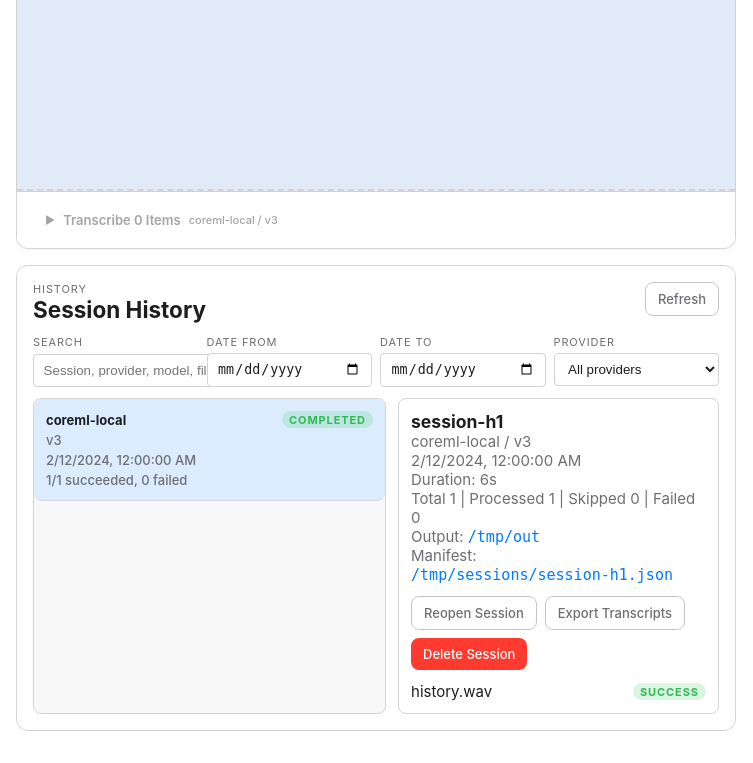
Test: App › loads history and reopens a selected session into the queue
(page scrolled)
Expected: the heading "session-h1" is shown, [411,411,503,432]
Click the button "Reopen Session" at (474, 613), box [411,596,537,630]
(page scrolled)
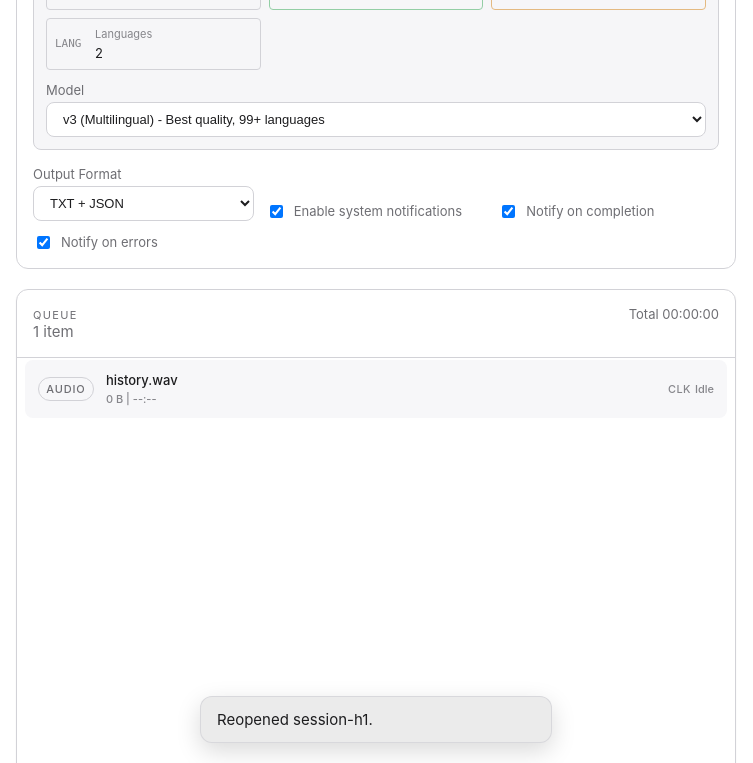
Now the text "history.wav" is shown, box [106,372,178,388]
